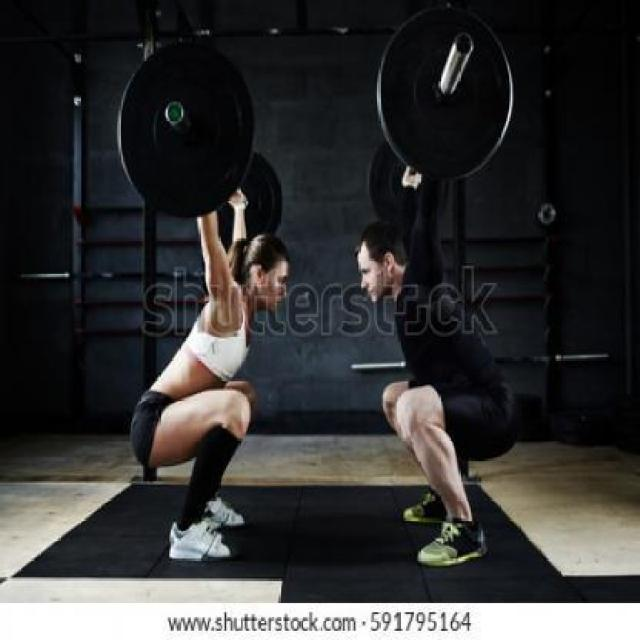barbell: (111, 30, 265, 227), (371, 1, 526, 185)
